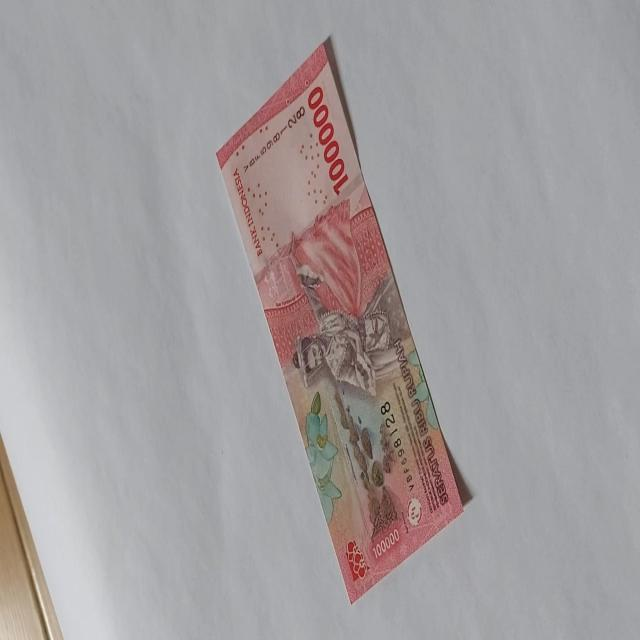seratus ribu rupiah: (215, 40, 465, 604)
